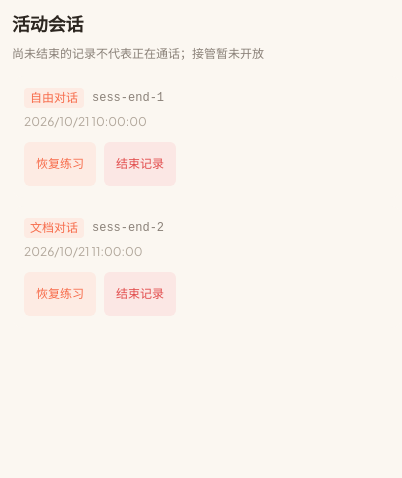
ActiveSessions Component › Cross-platform lifecycle driving dashboard discovery › Explicit End Active Session (CP-02 §2) › treats abnormal response (status not completed or id mismatch) as failure
Step 1. Click the button with test id "end-session-button-sess-end-1" → (140, 164), box [104,142,176,186]
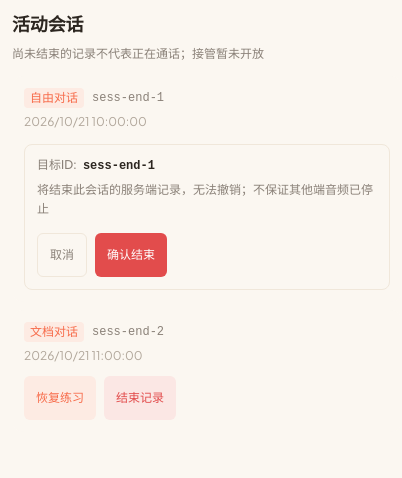
Step 2. Click the button with test id "confirm-end-button-sess-end-1" → (131, 254), box [95,232,167,276]
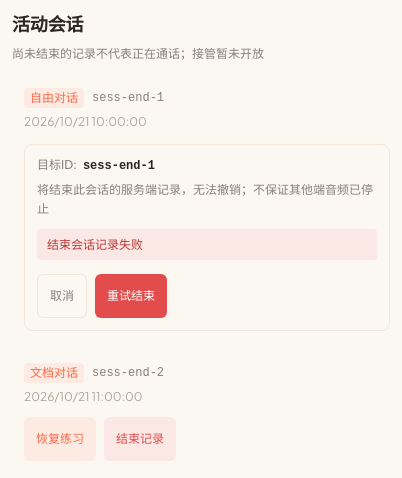
Expected: the list item with test id "active-session-item-sess-end-1" is shown, [12,76,401,343]
Now the message with test id "end-error-sess-end-1" reads "结束会话记录失败", box [47,236,143,252]
Now the button with test id "retry-end-button-sess-end-1" reads "重试结束", box [95,274,167,318]
